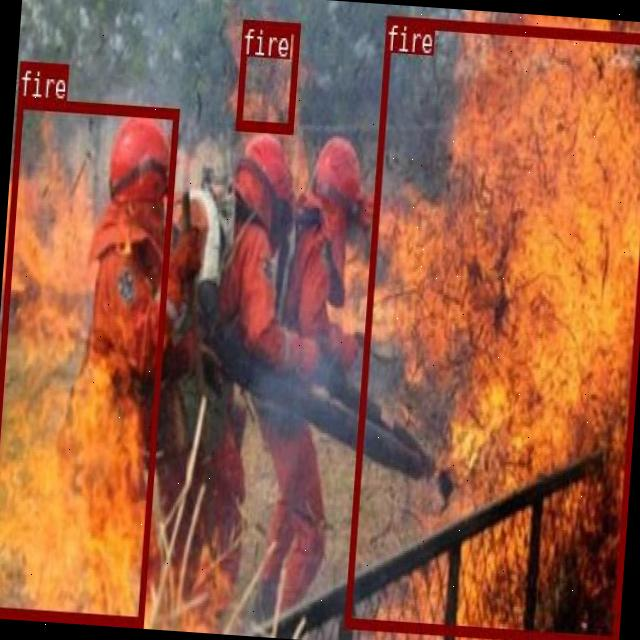fire: (343, 13, 640, 640), (0, 95, 177, 623), (235, 18, 300, 132)
